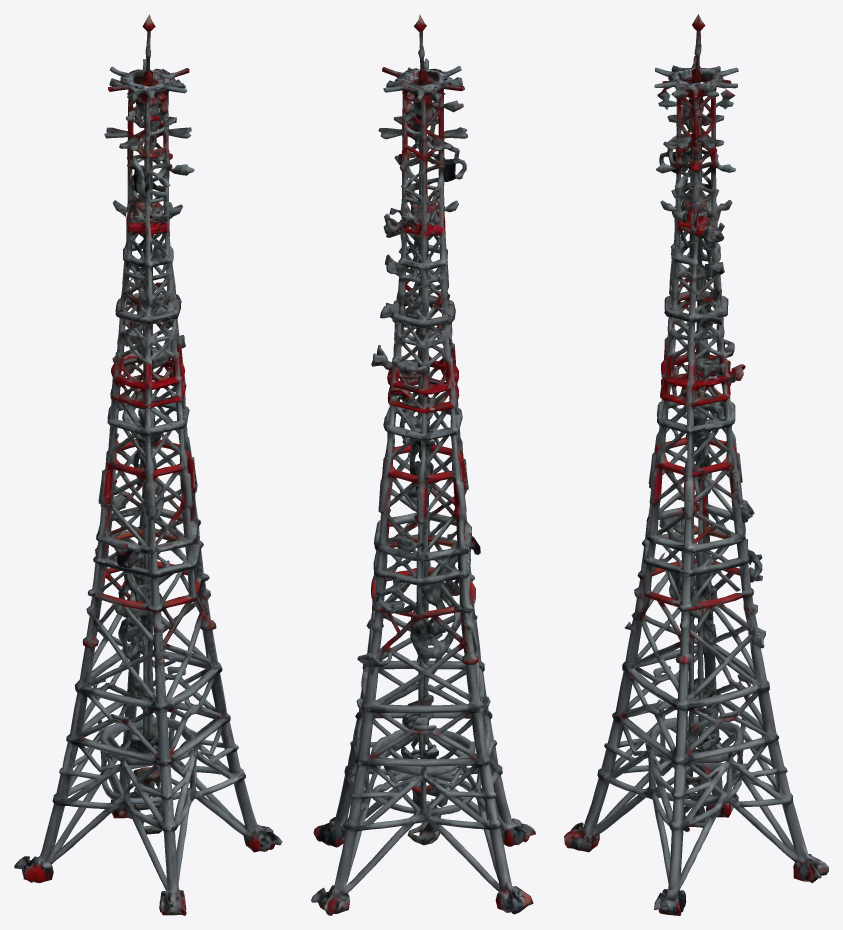
Rendered from Funkmast.glb.
3 views of the same model, side by side, from view 1: azimuth 30°, elevation 25°; view 2: azimuth 150°, elevation 25°; view 3: azimuth 270°, elevation 25° (orthographic).
Visible parts, largest first — view 1: tripo_node_0243f88f-ee33-46ab-99cd-57addbdb1c3c; view 2: tripo_node_0243f88f-ee33-46ab-99cd-57addbdb1c3c; view 3: tripo_node_0243f88f-ee33-46ab-99cd-57addbdb1c3c.
Boxes of the visible parts, box(x1,y1,x2,y2) form: tripo_node_0243f88f-ee33-46ab-99cd-57addbdb1c3c: box(14, 14, 282, 915); tripo_node_0243f88f-ee33-46ab-99cd-57addbdb1c3c: box(311, 14, 535, 915); tripo_node_0243f88f-ee33-46ab-99cd-57addbdb1c3c: box(564, 14, 828, 915).
Bounding box in the file's own units: 0.2876 × 1 × 0.2825.
1 material, 1 textured.
